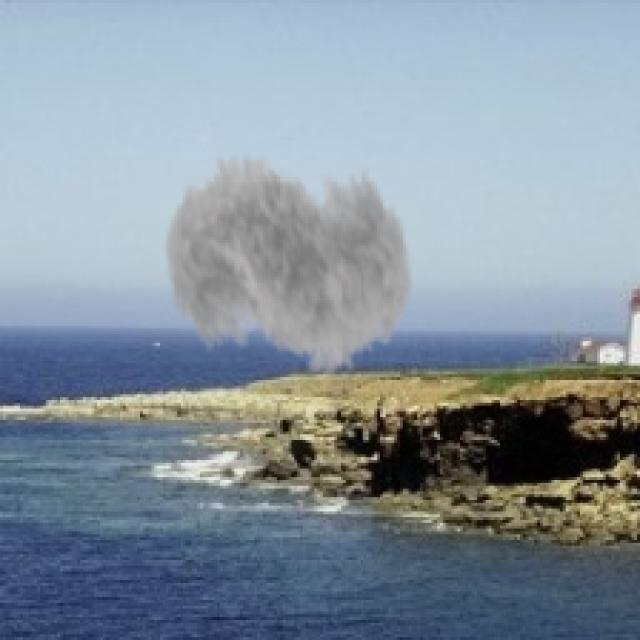smoke: (163, 123, 414, 397)
